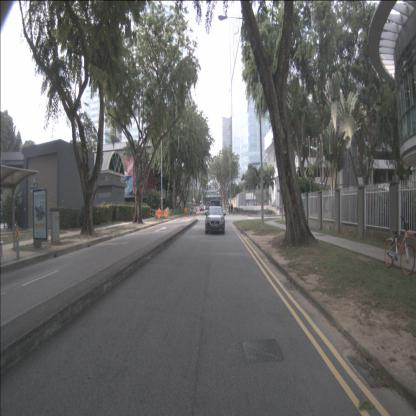human-pedestrian-adult: (230, 204, 234, 214), (228, 204, 230, 215)
vehicle-bicycle: (384, 215, 416, 276)
vehicle-car: (205, 206, 225, 234), (210, 199, 222, 218), (190, 206, 196, 214), (200, 204, 204, 212)
